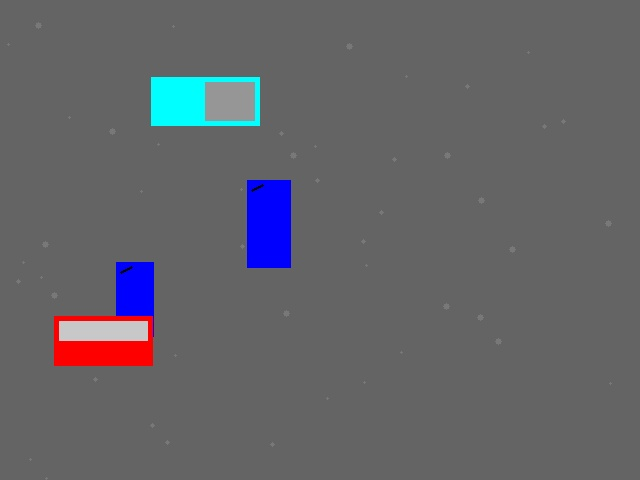car: (54, 316, 152, 365)
motorcycle: (247, 180, 290, 267), (116, 262, 153, 336)
truck: (151, 77, 259, 125)
